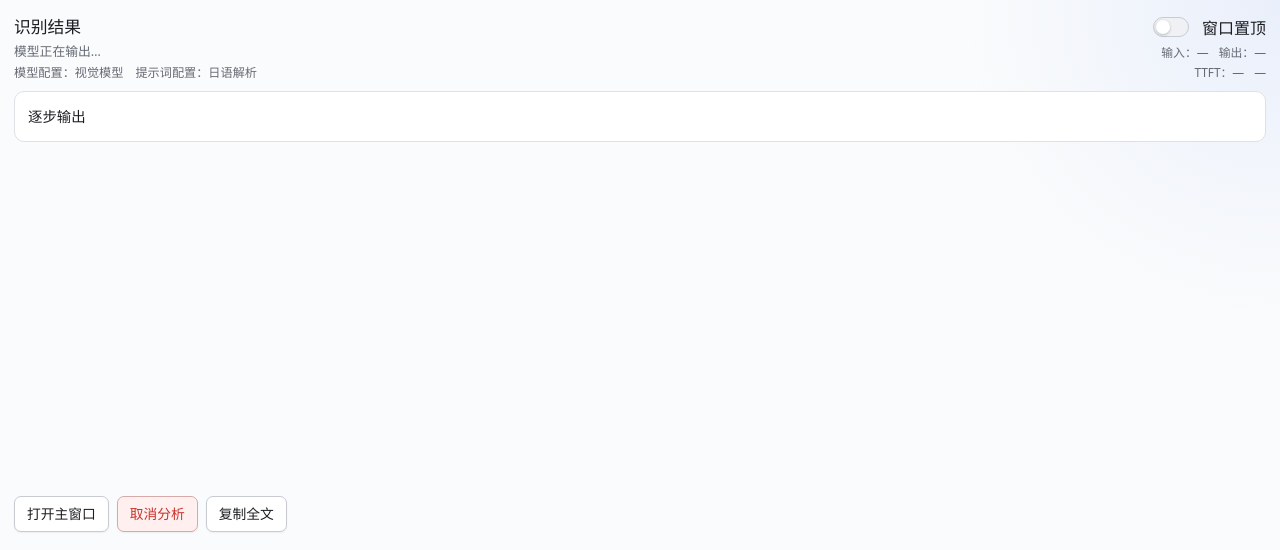
Test case: Result › reports a main-window navigation failure without removing the result
Click the button "打开主窗口" at [61, 514], box [14,496,109,532]
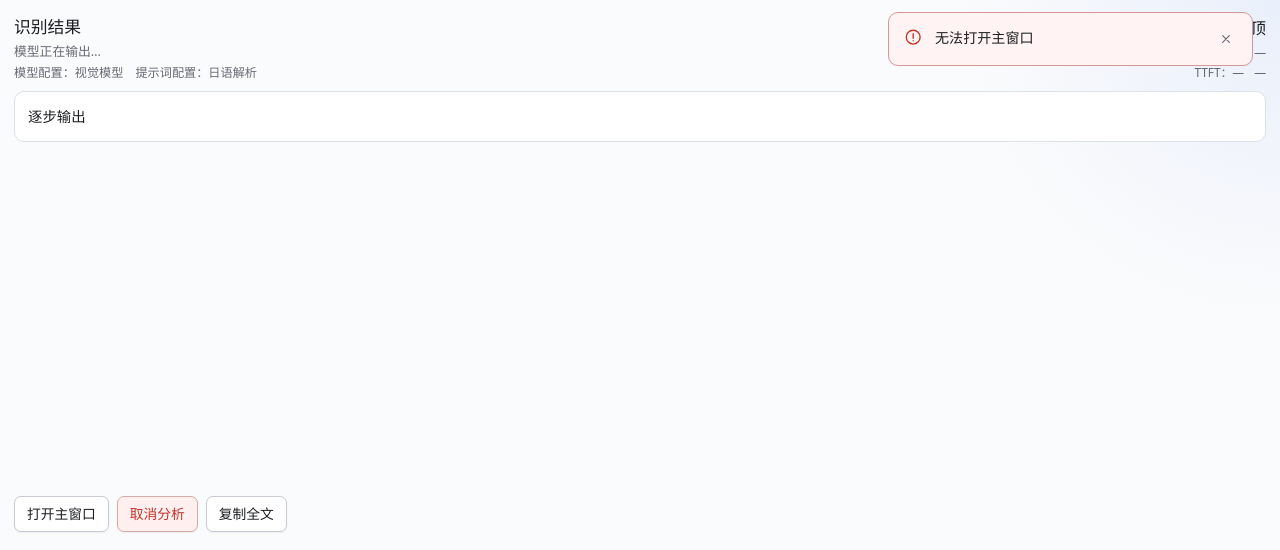
Expected: the text "逐步输出" is shown, [14,91,1266,142]
Result: the message reads "无法打开主窗口" at [935,28,1034,47]
